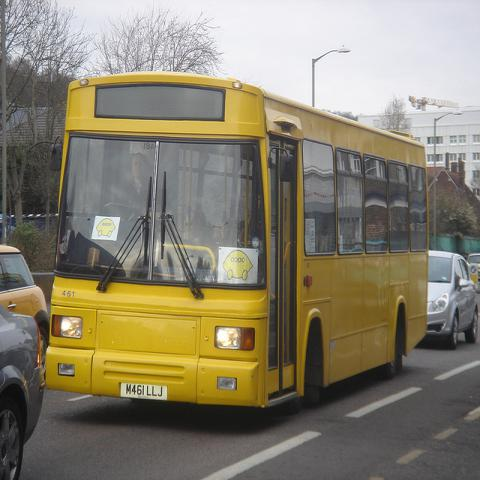bus: (46, 76, 429, 404)
car: (0, 301, 46, 476), (428, 251, 479, 349), (2, 247, 51, 349), (467, 253, 479, 281), (469, 263, 479, 294)
